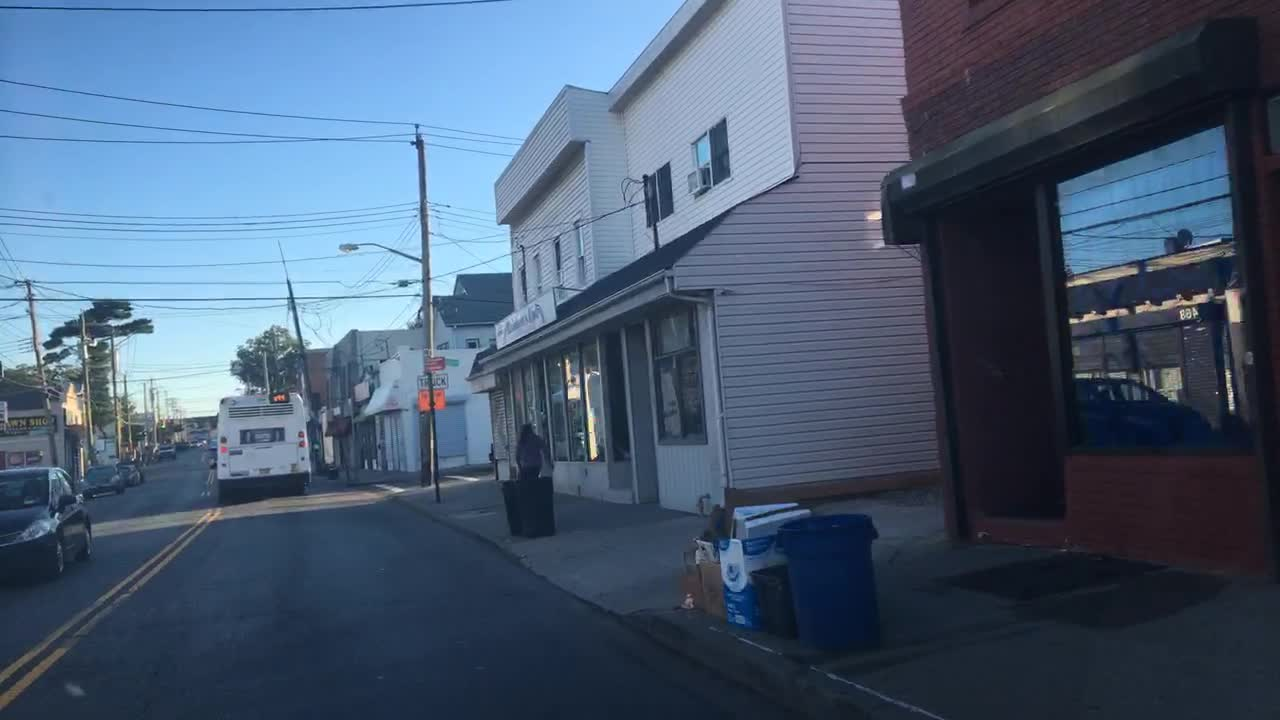bus: (214, 389, 311, 497)
car: (0, 465, 93, 579), (80, 465, 125, 498), (115, 462, 143, 489), (155, 444, 177, 461), (206, 446, 216, 468), (175, 441, 190, 449), (190, 440, 201, 448)
person: (513, 421, 554, 474)
traffic sign: (416, 388, 445, 410), (416, 373, 448, 388), (425, 356, 443, 370), (445, 358, 459, 365)
